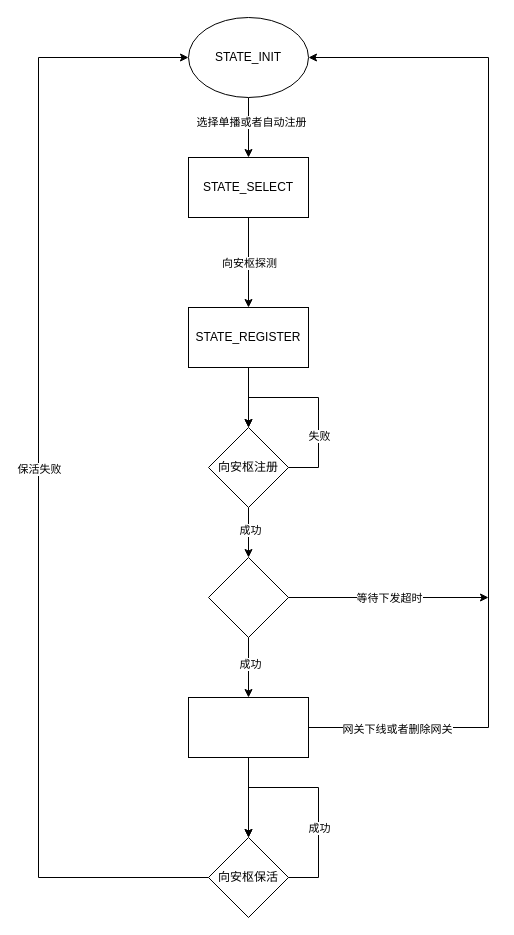
This 514x935 diagram has some shape labels left out. Each missing label, with the box of its shape:
STATE_ONLINE: (188, 696, 308, 758)
等待安枢 下发配置: (208, 556, 288, 638)
